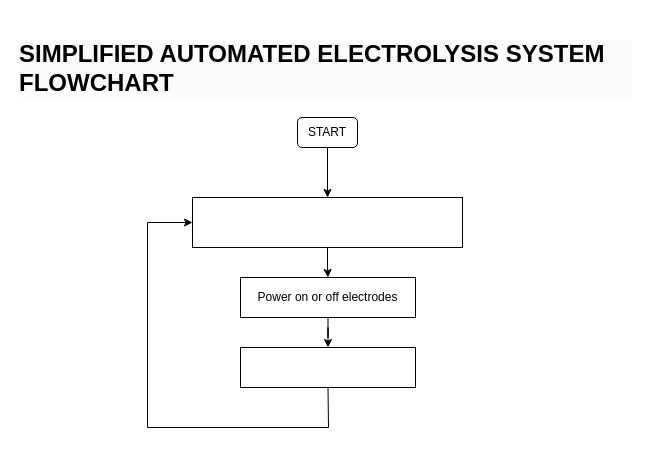
The diagram is 649 pixels wide and 453 high, and some of its shapes have lost their labels. The centre of each missing label's shape, as x and y in pixels:
Display system status and parameters: pixel 328 367
Read system parameters Apply system parameters to control algorithm: pixel 327 222
